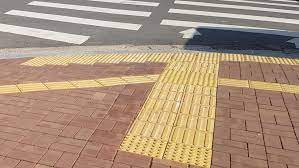guide_blocks: (125, 119, 212, 166), (145, 83, 217, 118), (23, 51, 167, 64), (162, 52, 219, 84), (2, 80, 100, 91), (224, 80, 299, 92), (222, 55, 299, 66), (107, 73, 157, 84)
